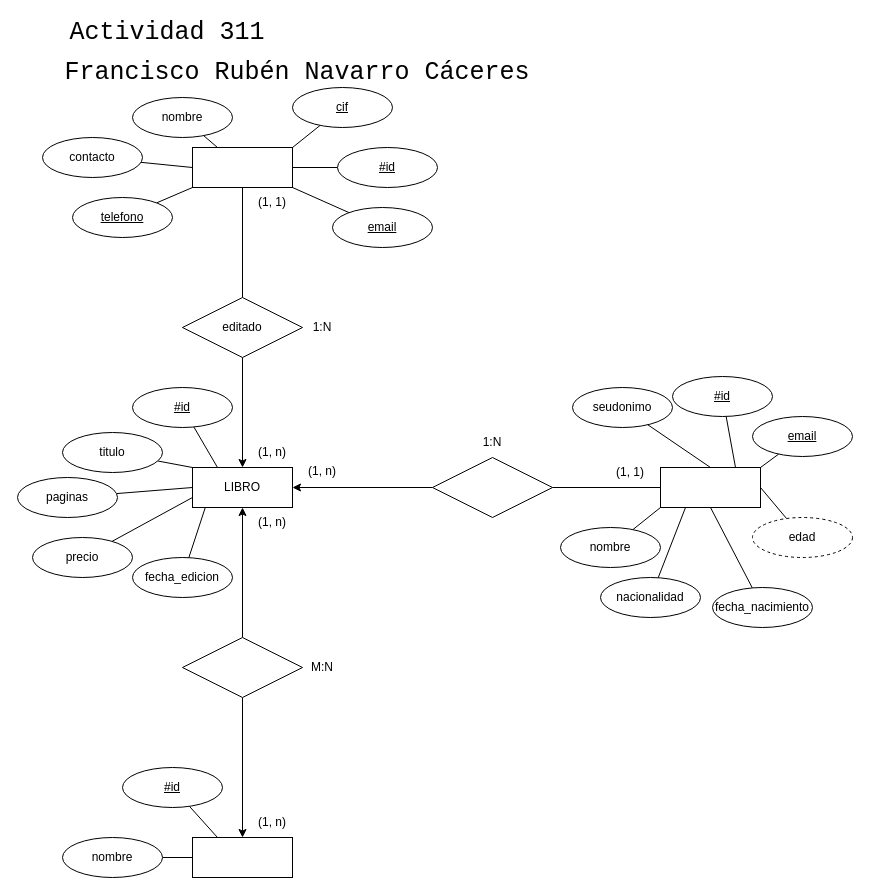
This 870x895 diagram has some shape labels left out. The shapes that lost their labels are listed below. From the top down, each one's centre as x and y in pixels, then its label:
At point (242, 167): "EDITORIAL".
At point (492, 487): "escribe".
At point (710, 487): "AUTOR".
At point (242, 667): "asignada".
At point (242, 857): "TEMATICA".
